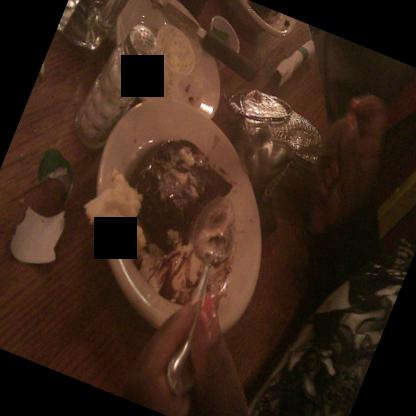handbag: (226, 88, 336, 208)
